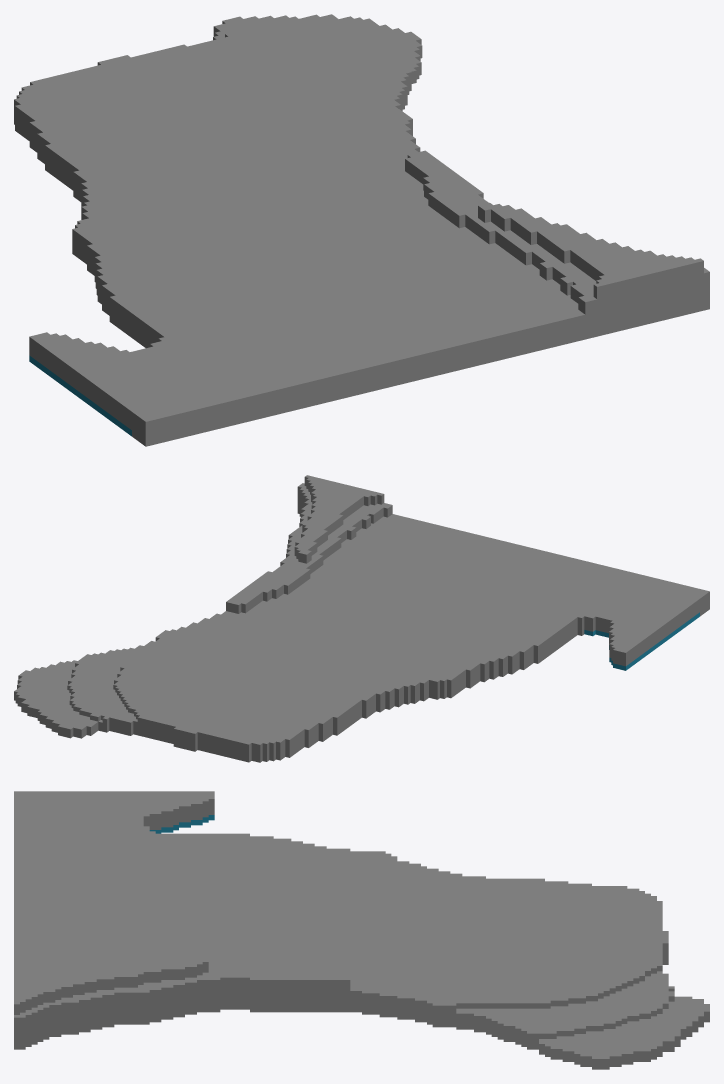
Rendered from Main Island-18.obj.
3 views of the same model, one above another, from view 1: azimuth 30°, elevation 25°; view 2: azimuth 150°, elevation 25°; view 3: azimuth 270°, elevation 25° (orthographic). The views are drawn at different scales.
Parts seen in each view (by area): view 1: Main Island-18; view 2: Main Island-18; view 3: Main Island-18.
Boxes of the visible parts, <box> form: Main Island-18: <box>14,14,709,446</box>; Main Island-18: <box>14,475,709,762</box>; Main Island-18: <box>14,791,709,1069</box>.
Size of the model in its own units: 103 by 8 by 118.
Materials: 1 (1 with a texture image).
